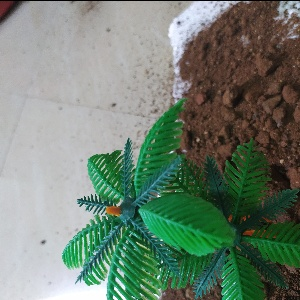plant: (54, 104, 215, 293), (189, 149, 294, 300)
